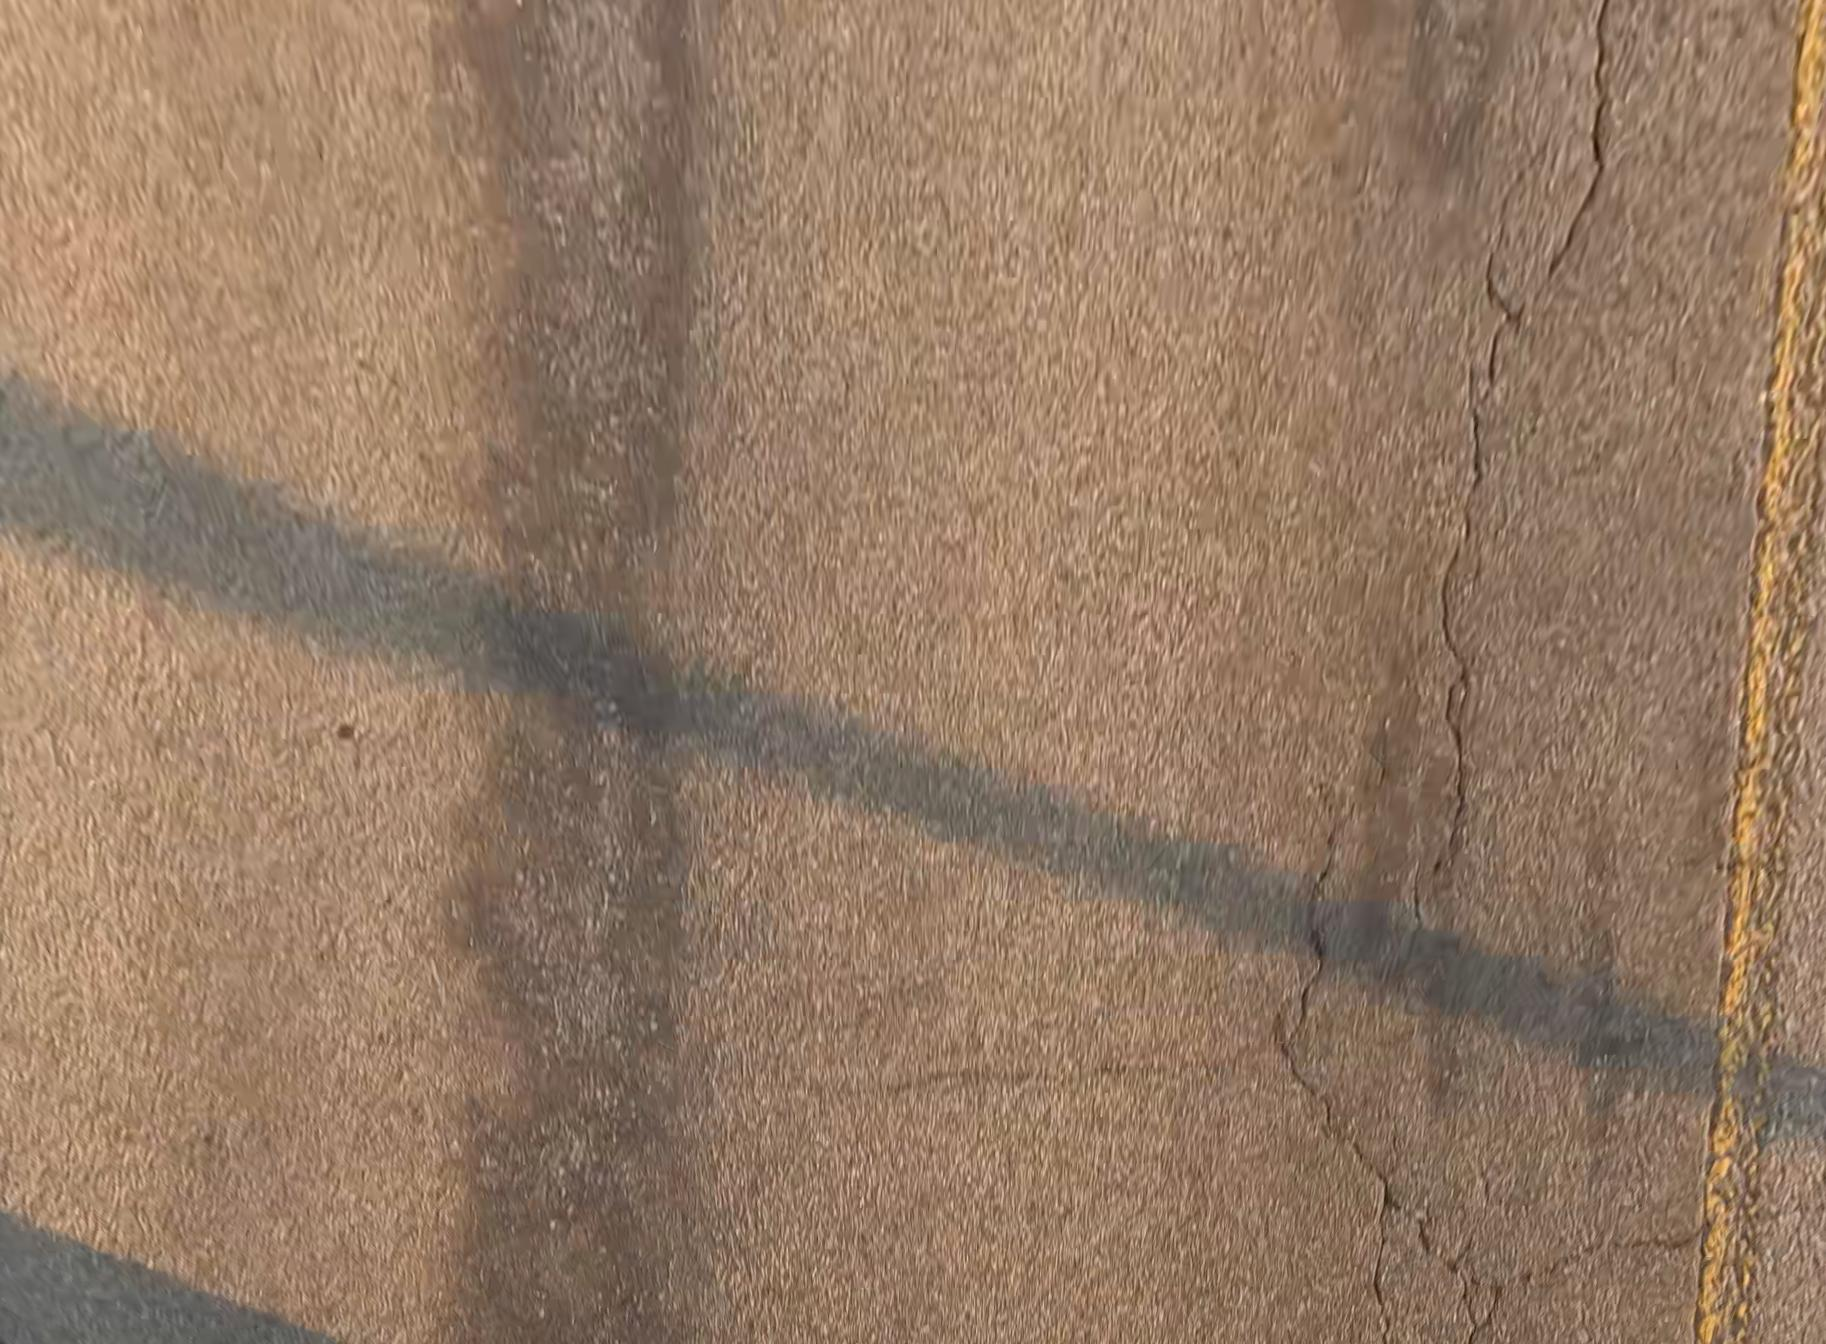pothole_patch_good: (461, 1, 727, 1341)
